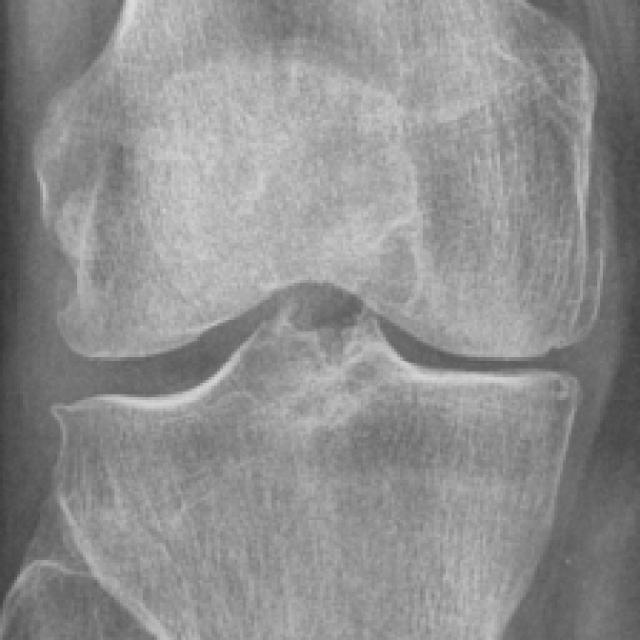femur: (32, 0, 609, 360)
tibia: (60, 304, 574, 637)
